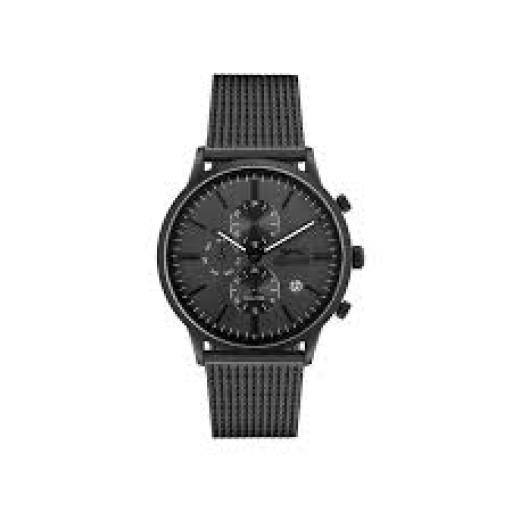KolSaati: (148, 44, 377, 468)
